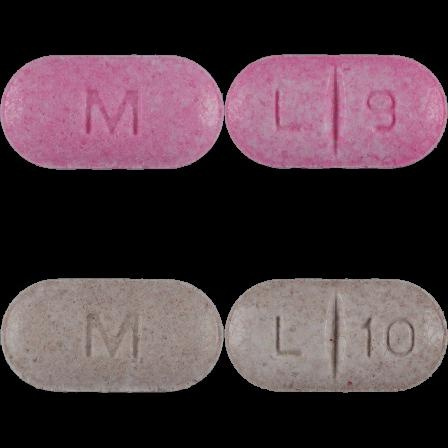0378-1811: (0, 0, 224, 224)
